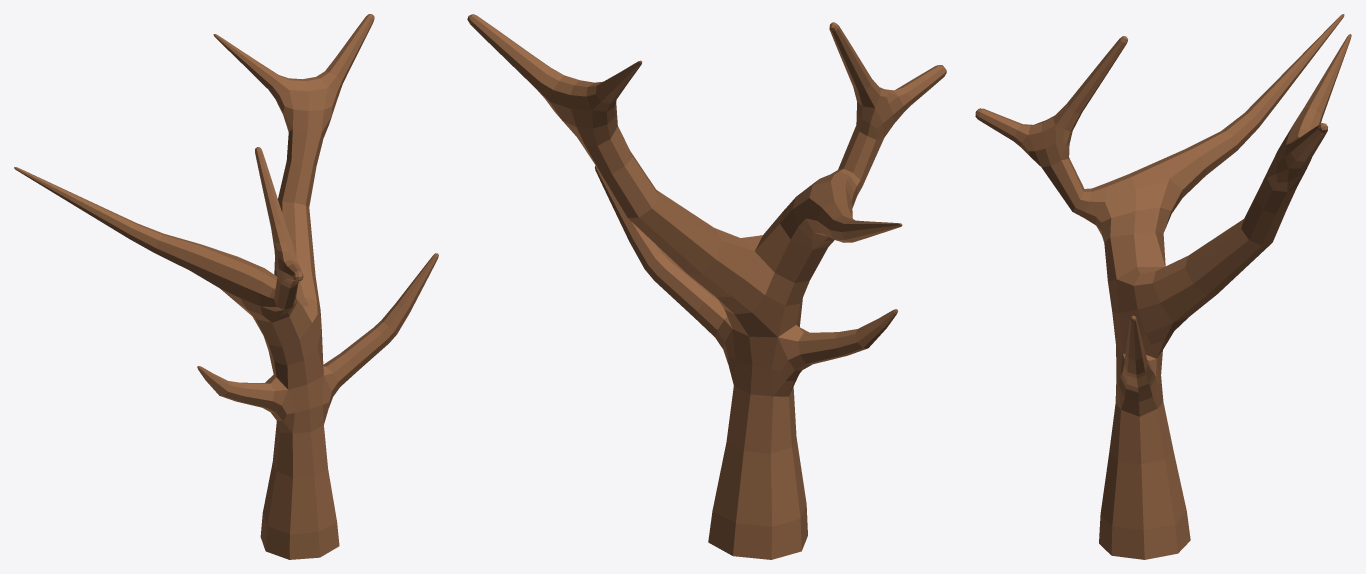
File: tree-winter-trunk-2-035.glb
3 views of the same model, side by side, from view 1: azimuth 30°, elevation 25°; view 2: azimuth 150°, elevation 25°; view 3: azimuth 270°, elevation 25° (orthographic). The views are drawn at different scales.
Visible parts, largest first — view 1: TREE 2.004_198; view 2: TREE 2.004_198; view 3: TREE 2.004_198.
Part boxes in pixels (x1,y1,x2,y2): TREE 2.004_198: (14, 14, 438, 559); TREE 2.004_198: (467, 14, 946, 559); TREE 2.004_198: (975, 14, 1351, 559).
Bounding box in the file's own units: 0.9028 × 1.09 × 0.7259.
